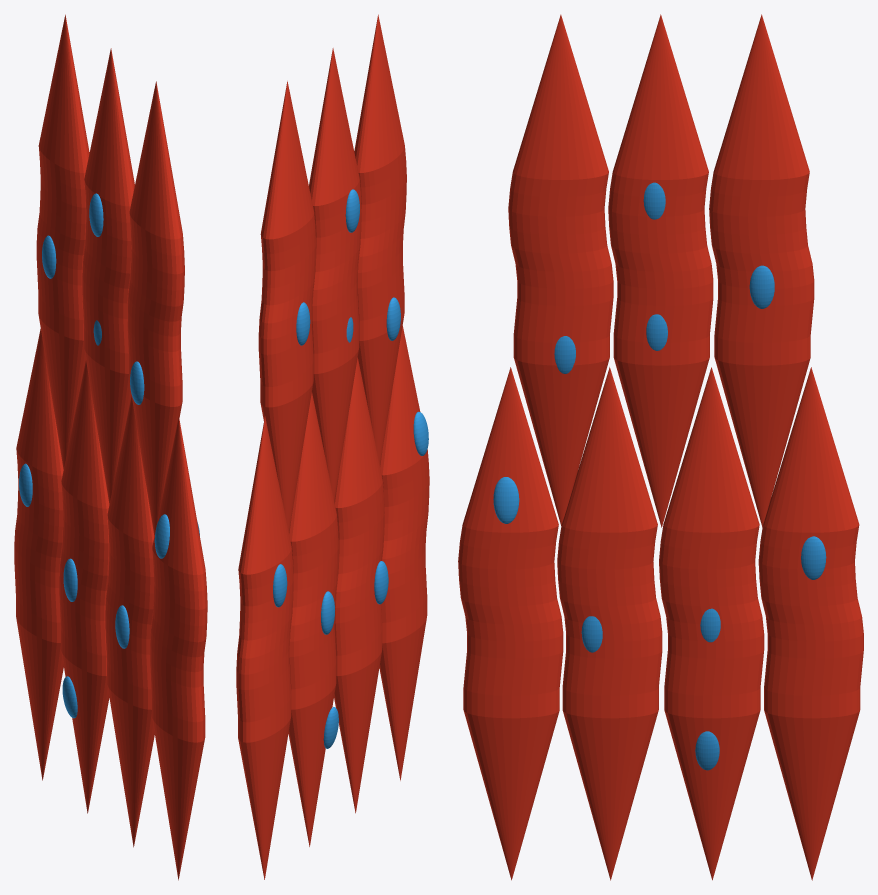
Rendered from Non-Striated.gltf.
3 renders of one model, left to right at view 1: azimuth 30°, elevation 25°; view 2: azimuth 150°, elevation 25°; view 3: azimuth 270°, elevation 25°, orthographic. The views are drawn at different scales.
Visible parts, largest first — view 1: Cylinder; view 2: Cylinder; view 3: Cylinder.
Part boxes in pixels (x1,y1,x2,y2): Cylinder: (14, 14, 207, 880); Cylinder: (236, 14, 429, 879); Cylinder: (458, 14, 863, 880).
Bounding box in the file's own units: 0.4787 × 8.25 × 3.5.
